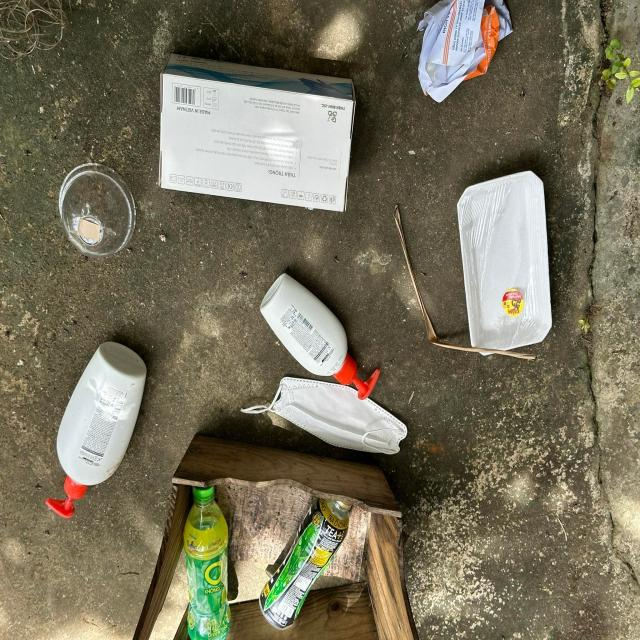bottle: (45, 341, 147, 518), (260, 273, 380, 400), (259, 497, 352, 631), (183, 485, 231, 640)
cardboard box: (158, 53, 356, 212)
foam box: (457, 170, 552, 357)
lid: (59, 163, 136, 258)
mask: (240, 376, 408, 454)
paper: (416, 0, 514, 103)
